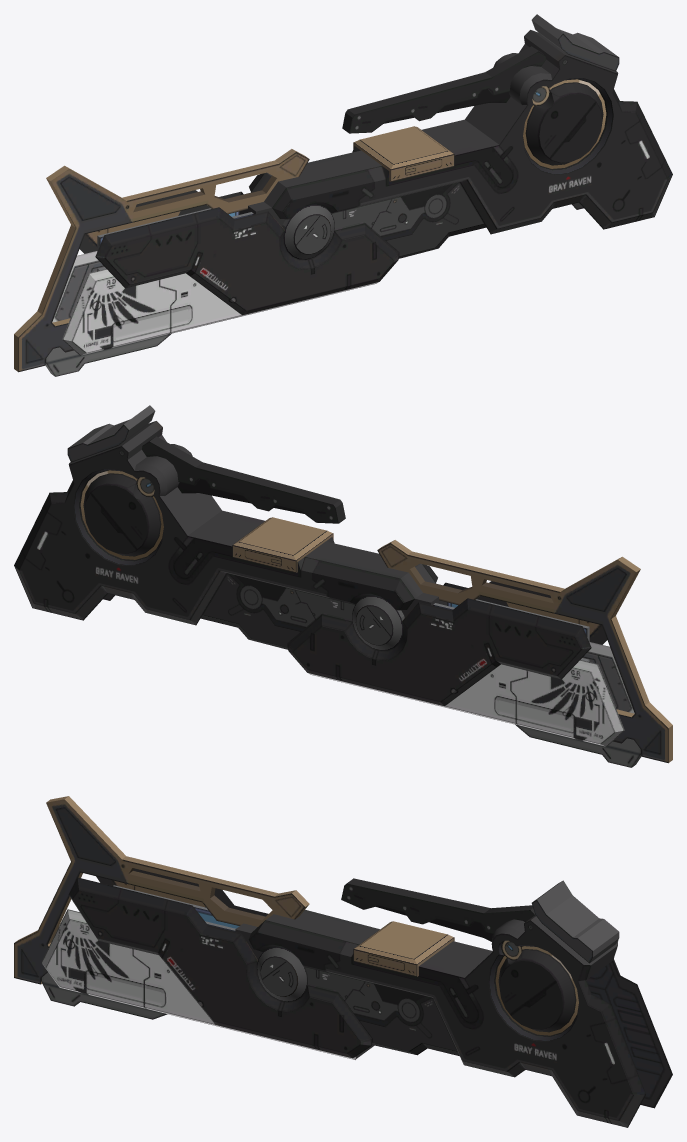
The model's file is hyperreal case.glb.
3 views of the same model, one above another, from view 1: azimuth 30°, elevation 25°; view 2: azimuth 150°, elevation 25°; view 3: azimuth 330°, elevation 25° (orthographic).
Parts seen in each view (by area): view 1: e2superliboxmd020011; view 2: e2superliboxmd020011; view 3: e2superliboxmd020011.
Boxes of the visible parts, x1,y1,x2,y2 form: e2superliboxmd020011: [14, 14, 672, 376]; e2superliboxmd020011: [14, 405, 672, 767]; e2superliboxmd020011: [14, 796, 672, 1127].
Bounding box in the file's own units: 6.31 × 2.16 × 0.6756.
Materials: 1 (1 with a texture image).
